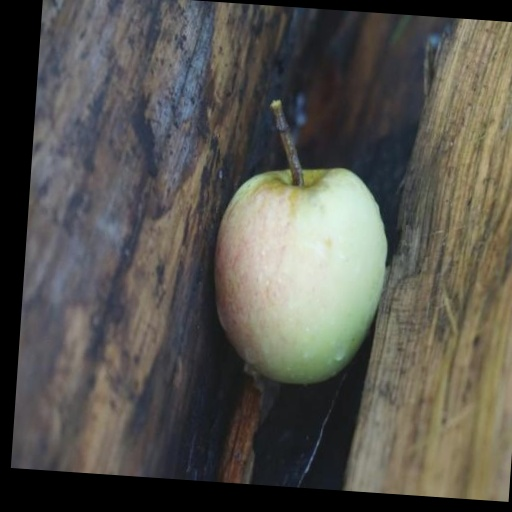fruit: (214, 102, 385, 383)
